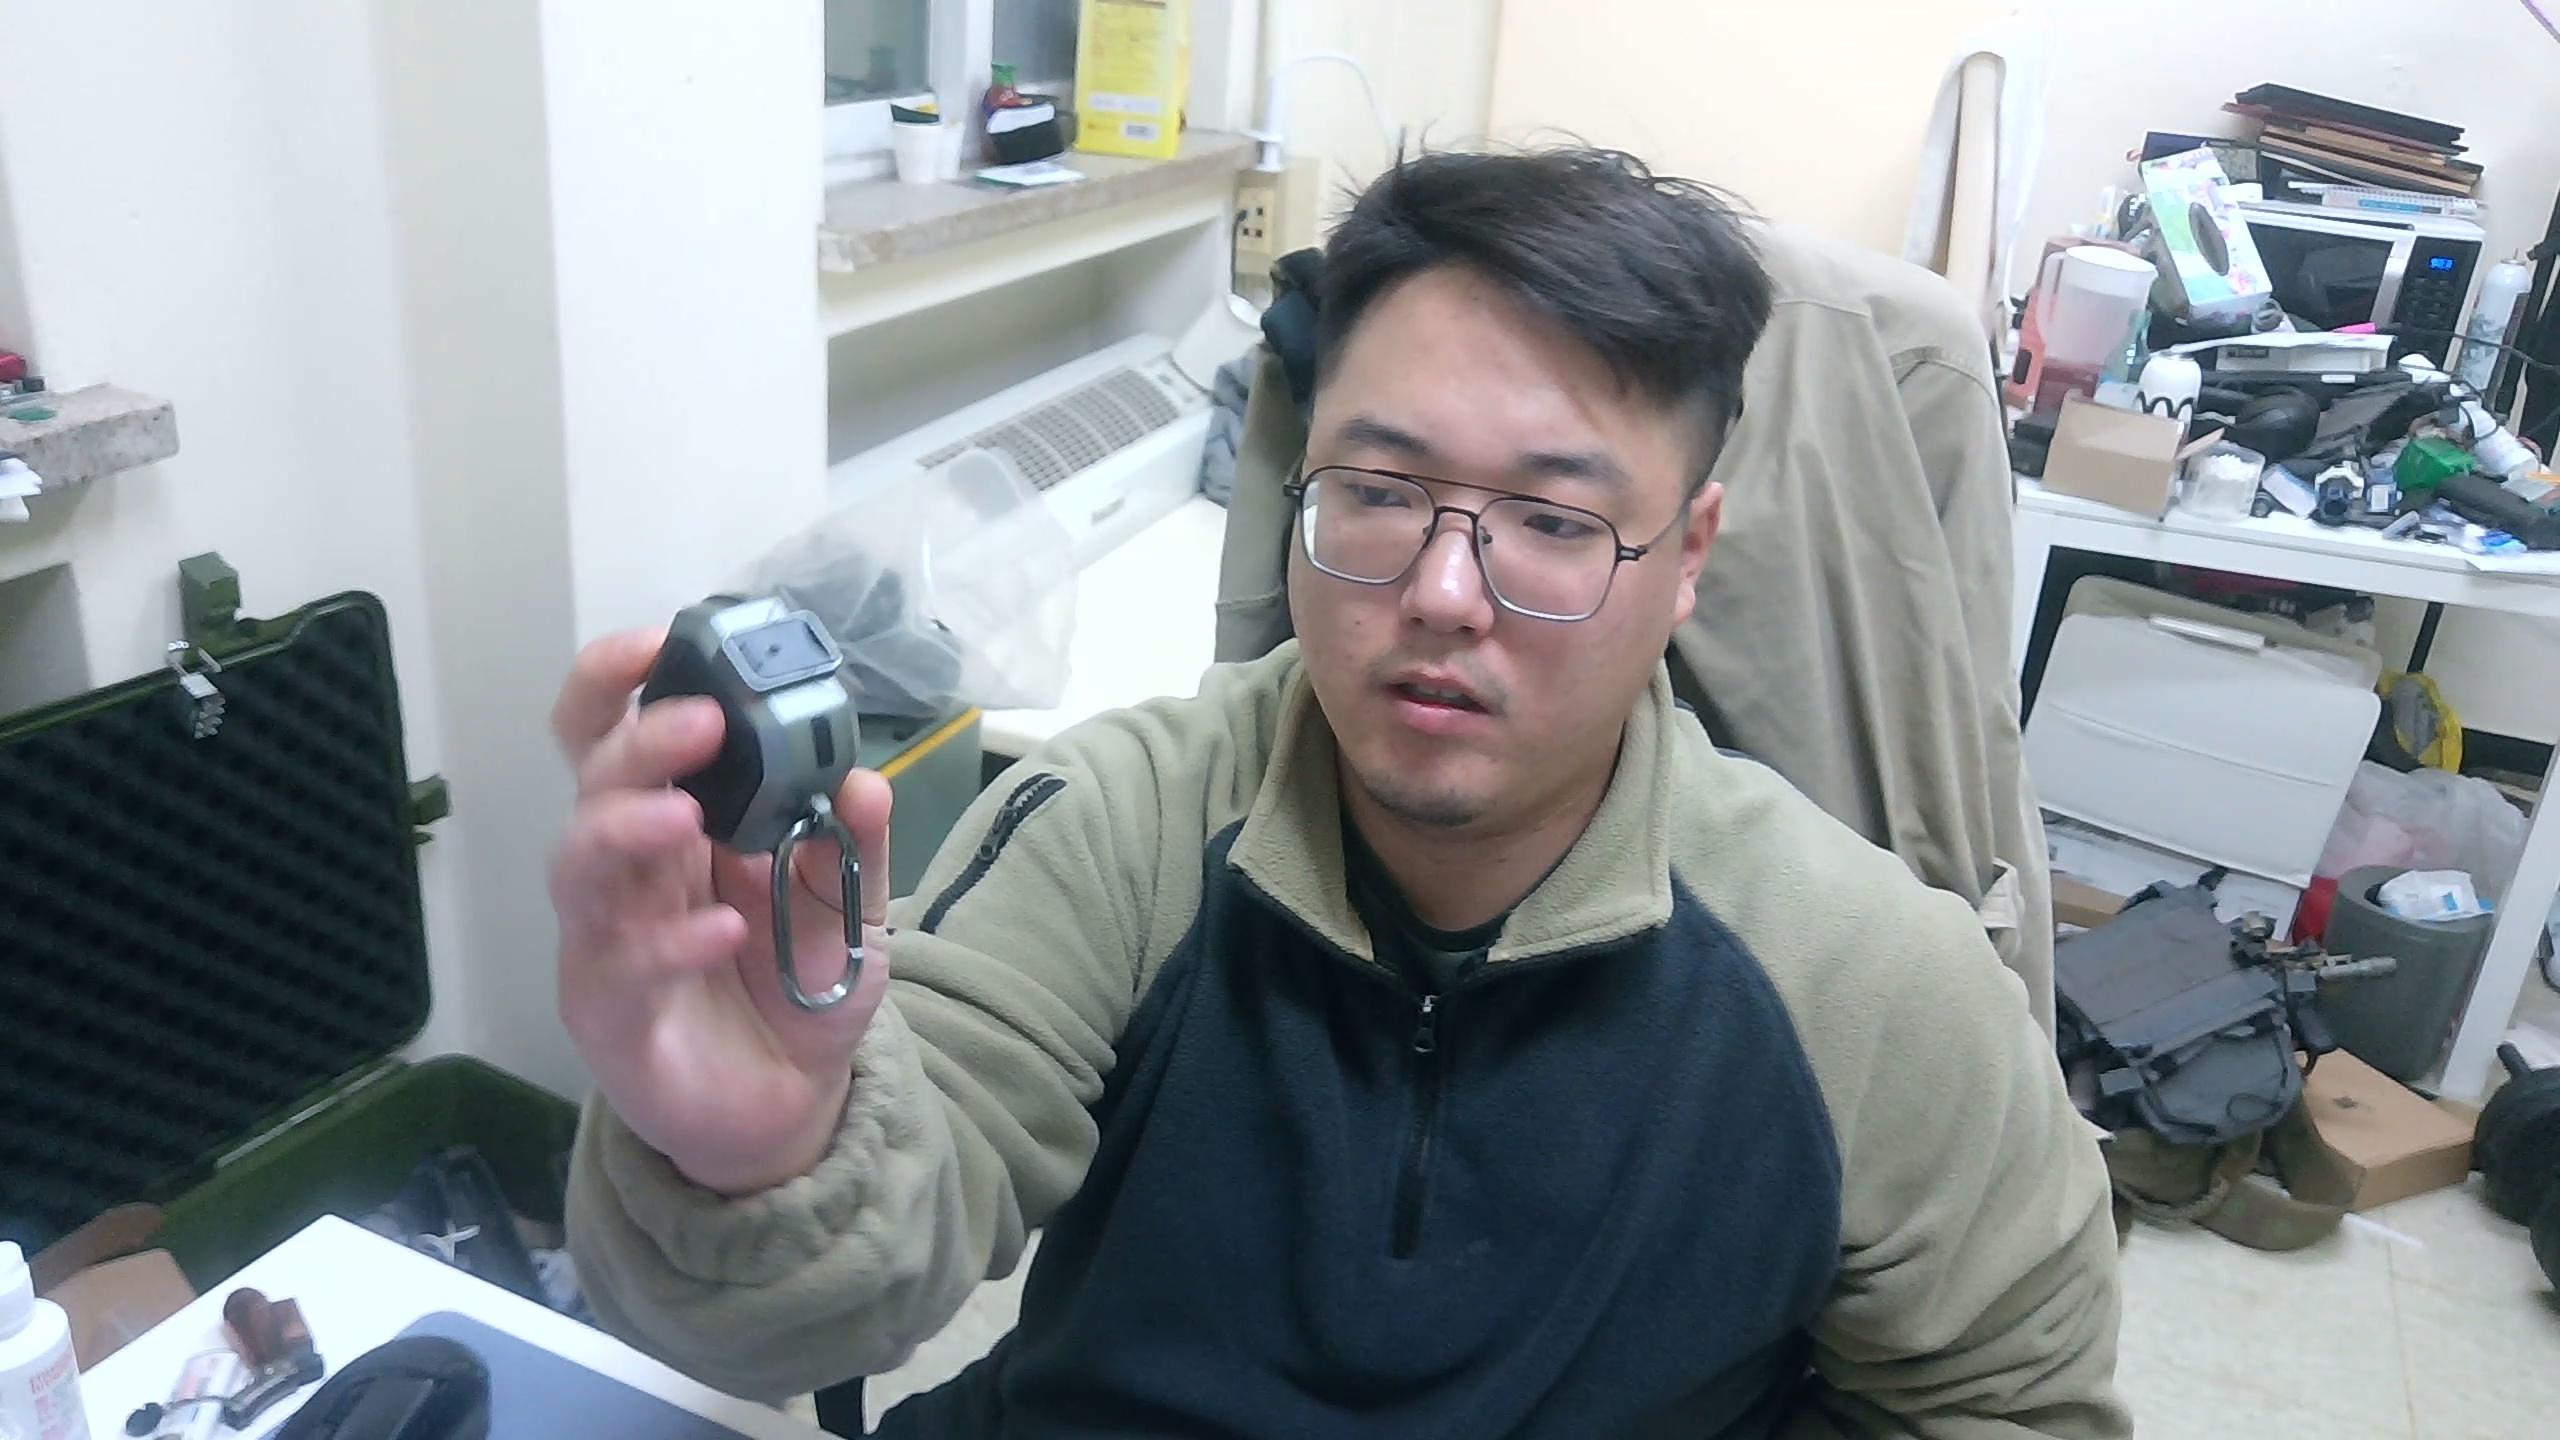blue_pliers: (633, 589, 874, 1013)
